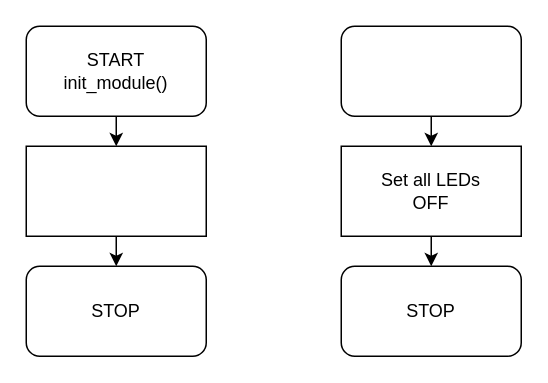
This 548x383 diagram has some shape labels left out. Each missing label, with the centre of its shape:
Set RED and YELLOW LEDs ON Set Green LED OFF: the point at 115,190
START cleanup_module(): the point at 430,70
